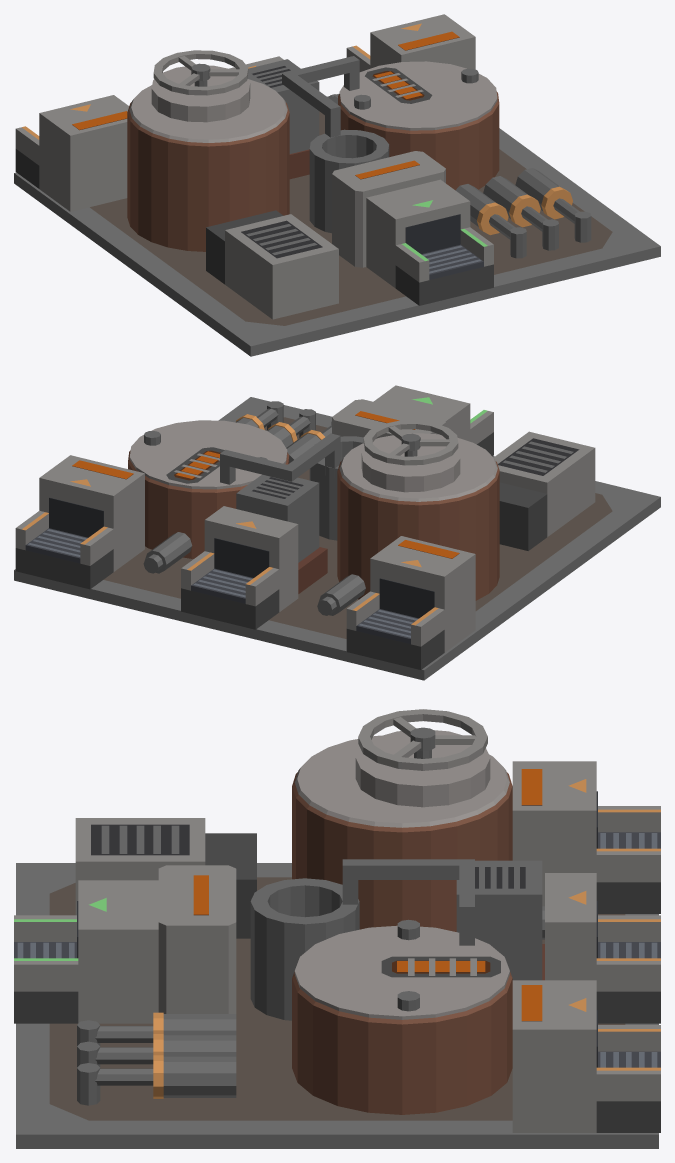
File: vfef_alloy_forge.obj
3 views of the same model, one above another, from view 1: azimuth 30°, elevation 25°; view 2: azimuth 150°, elevation 25°; view 3: azimuth 270°, elevation 25° (orthographic). The views are drawn at different scales.
Parts seen in each view (by area): view 1: vfef_alloy_forge_0, vfef_alloy_forge_39, vfef_alloy_forge_1, vfef_alloy_forge_2, vfef_alloy_forge_84, vfef_alloy_forge_53, vfef_alloy_forge_43, vfef_alloy_forge_71, vfef_alloy_forge_74, vfef_alloy_forge_40, vfef_alloy_forge_64, vfef_alloy_forge_14 (+27 smaller); view 2: vfef_alloy_forge_0, vfef_alloy_forge_39, vfef_alloy_forge_1, vfef_alloy_forge_53, vfef_alloy_forge_2, vfef_alloy_forge_14, vfef_alloy_forge_84, vfef_alloy_forge_43, vfef_alloy_forge_26, vfef_alloy_forge_40, vfef_alloy_forge_37, vfef_alloy_forge_46 (+36 smaller); view 3: vfef_alloy_forge_0, vfef_alloy_forge_43, vfef_alloy_forge_1, vfef_alloy_forge_39, vfef_alloy_forge_53, vfef_alloy_forge_14, vfef_alloy_forge_74, vfef_alloy_forge_71, vfef_alloy_forge_64, vfef_alloy_forge_2, vfef_alloy_forge_40, vfef_alloy_forge_37 (+38 smaller).
Part boxes in pixels (box(x1,y1,x2,y2)): vfef_alloy_forge_0: box(14, 93, 660, 356); vfef_alloy_forge_39: box(127, 102, 289, 251); vfef_alloy_forge_1: box(90, 111, 612, 325); vfef_alloy_forge_2: box(39, 95, 129, 211); vfef_alloy_forge_84: box(225, 214, 338, 319); vfef_alloy_forge_53: box(339, 61, 497, 130); vfef_alloy_forge_43: box(338, 91, 499, 190); vfef_alloy_forge_71: box(332, 151, 445, 267); vfef_alloy_forge_74: box(366, 179, 470, 288); vfef_alloy_forge_40: box(129, 79, 287, 142); vfef_alloy_forge_64: box(309, 129, 389, 233); vfef_alloy_forge_14: box(370, 14, 475, 69); vfef_alloy_forge_0: box(14, 397, 660, 680); vfef_alloy_forge_39: box(337, 461, 499, 600); vfef_alloy_forge_1: box(103, 417, 612, 638); vfef_alloy_forge_53: box(129, 420, 287, 489); vfef_alloy_forge_2: box(370, 536, 475, 652); vfef_alloy_forge_14: box(39, 455, 144, 571); vfef_alloy_forge_84: box(493, 431, 595, 536); vfef_alloy_forge_43: box(128, 450, 289, 558); vfef_alloy_forge_26: box(204, 506, 298, 611); vfef_alloy_forge_40: box(339, 433, 497, 501); vfef_alloy_forge_37: box(236, 474, 319, 562); vfef_alloy_forge_46: box(361, 435, 460, 492); vfef_alloy_forge_0: box(16, 863, 658, 1148); vfef_alloy_forge_43: box(292, 972, 512, 1114); vfef_alloy_forge_1: box(49, 877, 625, 1120); vfef_alloy_forge_39: box(292, 772, 512, 931); vfef_alloy_forge_53: box(294, 925, 509, 1019); vfef_alloy_forge_14: box(512, 980, 596, 1132); vfef_alloy_forge_74: box(78, 880, 158, 1023); vfef_alloy_forge_71: box(158, 865, 236, 1013); vfef_alloy_forge_64: box(250, 878, 359, 1020); vfef_alloy_forge_2: box(512, 761, 596, 906); vfef_alloy_forge_40: box(294, 735, 509, 827); vfef_alloy_forge_37: box(456, 860, 542, 980).
Size of the model in its own units: 4.96 by 1.79 by 4.99.
